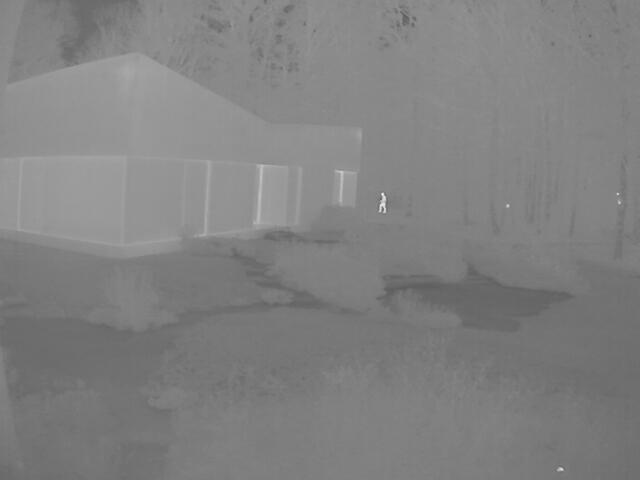person: (377, 190, 386, 213)
